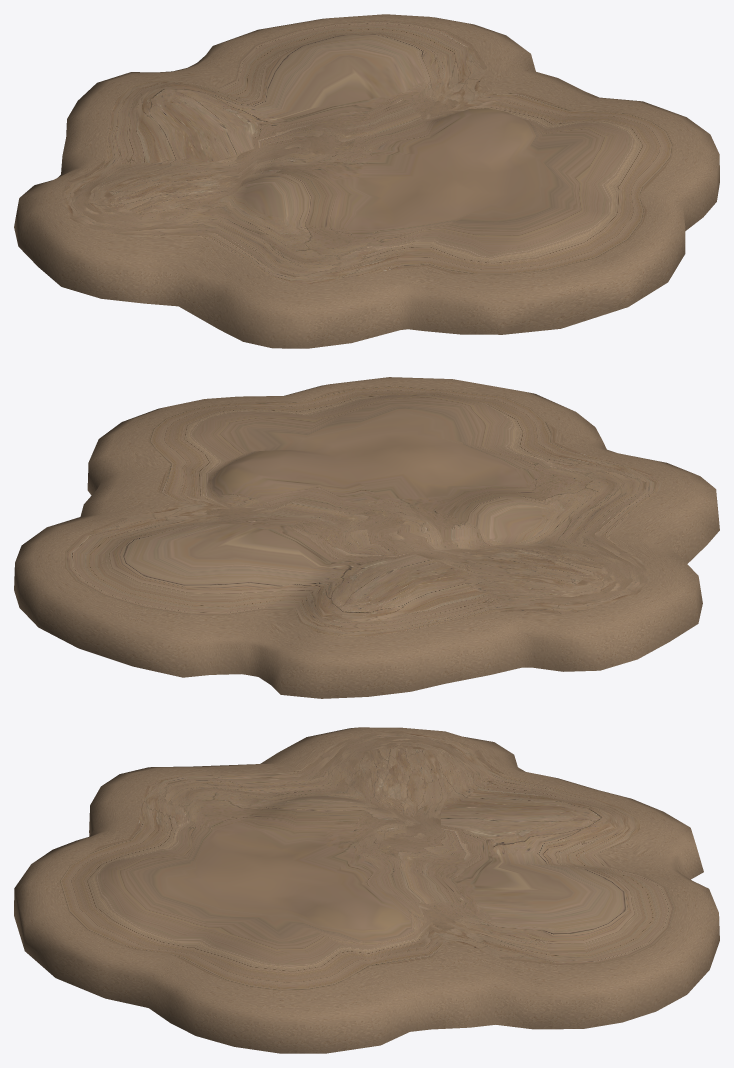
File: saltmine_floor_light_cracks_01.dae
The picture shows the model from 3 angles, top to bottom: view 1: azimuth 30°, elevation 25°; view 2: azimuth 150°, elevation 25°; view 3: azimuth 270°, elevation 25°; orthographic projection.
Parts seen in each view (by area): view 1: floor_01_light_cracked; view 2: floor_01_light_cracked; view 3: floor_01_light_cracked.
Boxes of the visible parts, x1=… form: floor_01_light_cracked: x1=14, y1=14, x2=719, y2=348; floor_01_light_cracked: x1=14, y1=377, x2=719, y2=698; floor_01_light_cracked: x1=14, y1=727, x2=719, y2=1053.
Size of the model in its own units: 5.97 by 0.5426 by 5.96.
